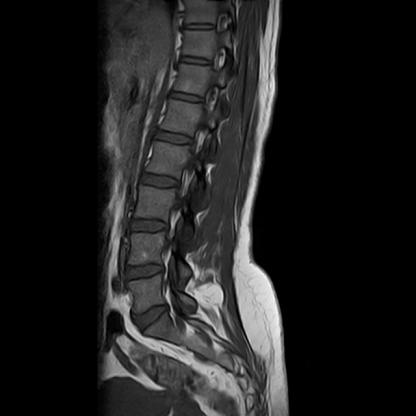Disc Bulgerotation: (125, 260, 165, 283), (131, 306, 172, 327)
